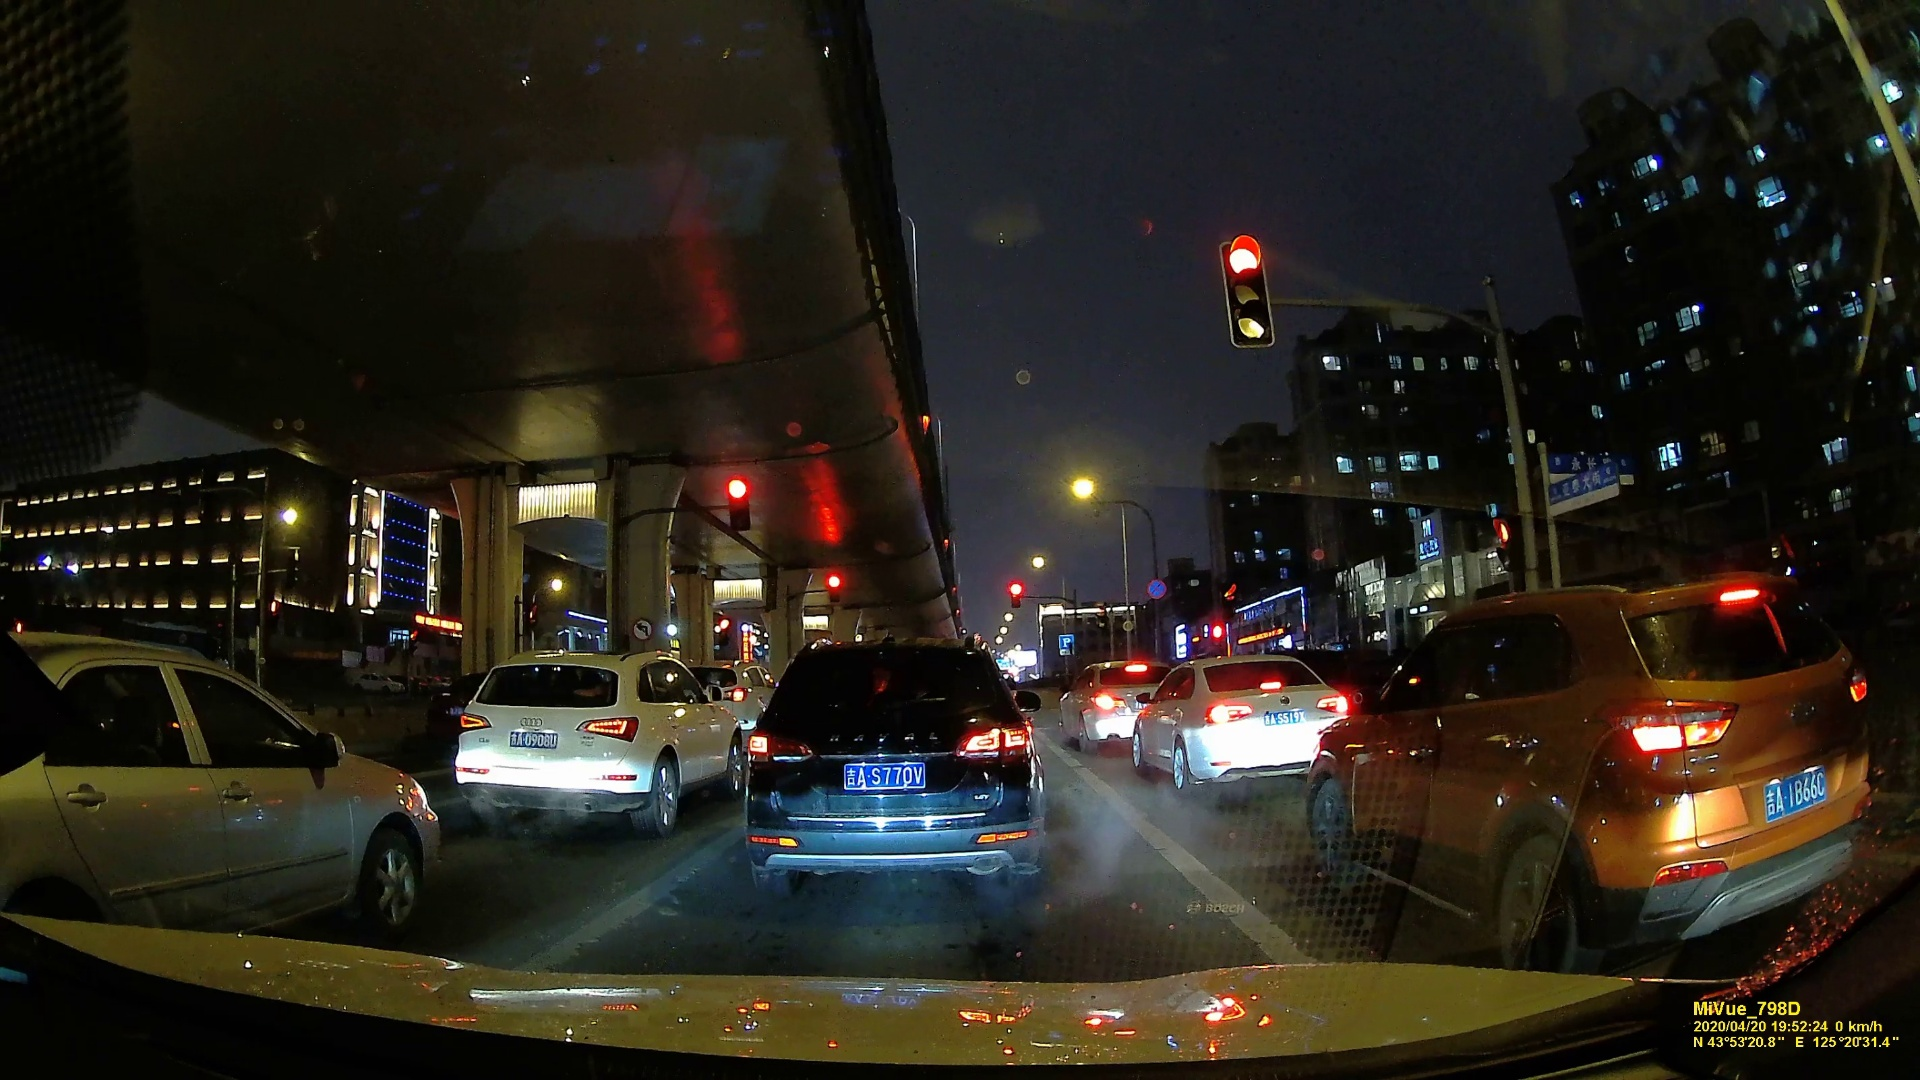traffic_sign: (1222, 233, 1278, 349), (1542, 465, 1625, 506), (1487, 506, 1523, 576), (724, 475, 749, 524), (1218, 582, 1238, 615), (629, 616, 653, 641), (1145, 576, 1167, 601), (1007, 582, 1023, 612), (825, 574, 843, 601), (1058, 633, 1073, 655)
vehicle: (1316, 585, 1876, 986), (5, 634, 440, 944), (746, 641, 1044, 884), (447, 647, 738, 837), (1131, 647, 1350, 796), (1065, 658, 1158, 753)
